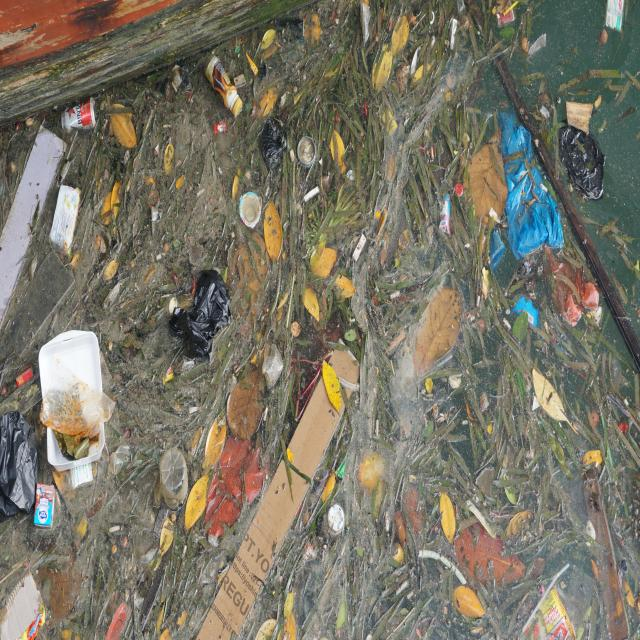Botol Plastik: (206, 55, 244, 120), (158, 448, 191, 509)
Bungkus Makanan: (39, 330, 111, 473), (521, 588, 577, 640), (50, 183, 81, 256)
Bungkus Minuman: (240, 188, 263, 232)
Kantong Plastik: (498, 107, 566, 263), (170, 269, 234, 364), (1, 410, 39, 530), (545, 250, 600, 329), (561, 124, 609, 204), (261, 118, 289, 173)
